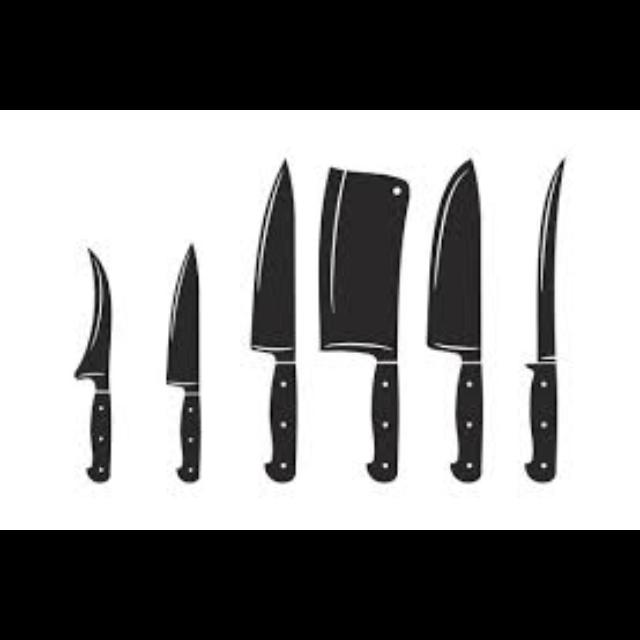Knife: (317, 166, 409, 482), (426, 156, 482, 482), (250, 156, 296, 482), (522, 156, 566, 482), (72, 246, 110, 482), (165, 242, 201, 482)
